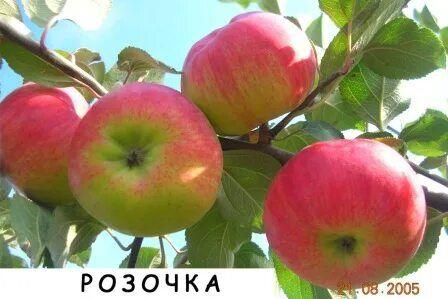Apple: (68, 80, 224, 238), (264, 138, 428, 286)
